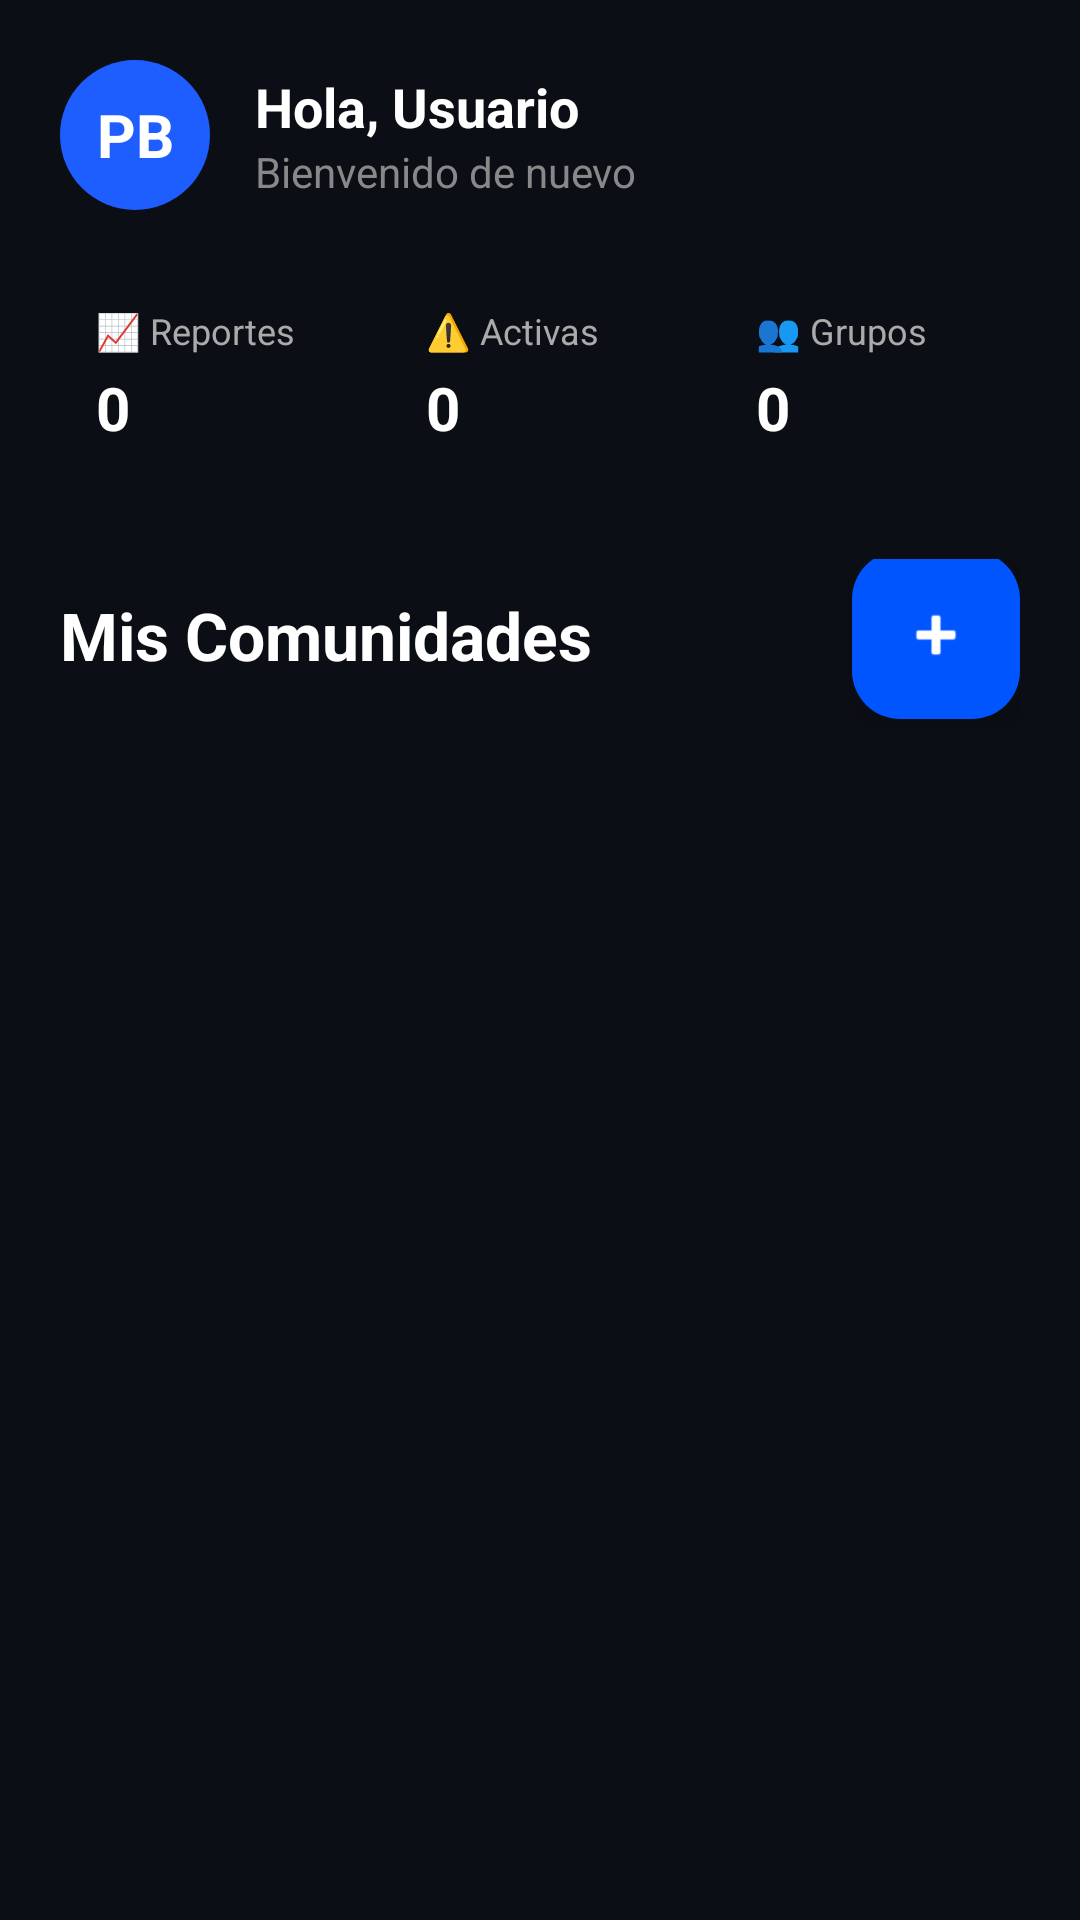

Point at icon controls on the screen. Image size 1080px×1920px, points as [x,y].
add: [936,639]
